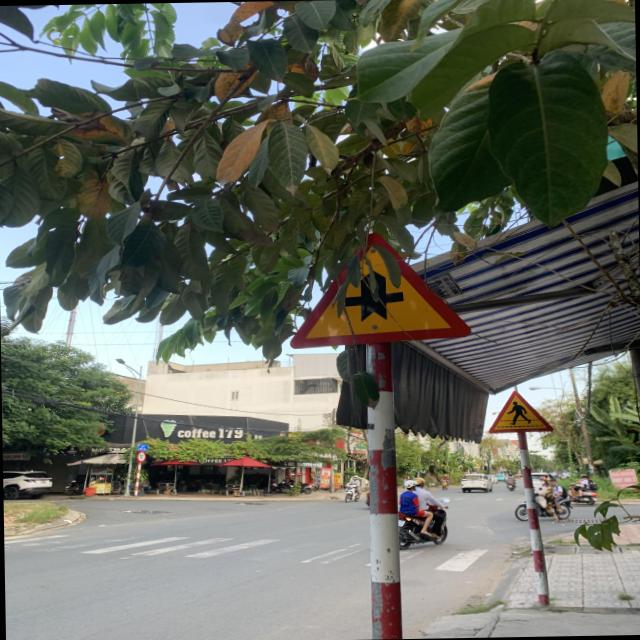Duong_Nguoi_Di_Bo_Sang_Ngang: (486, 389, 552, 432)
